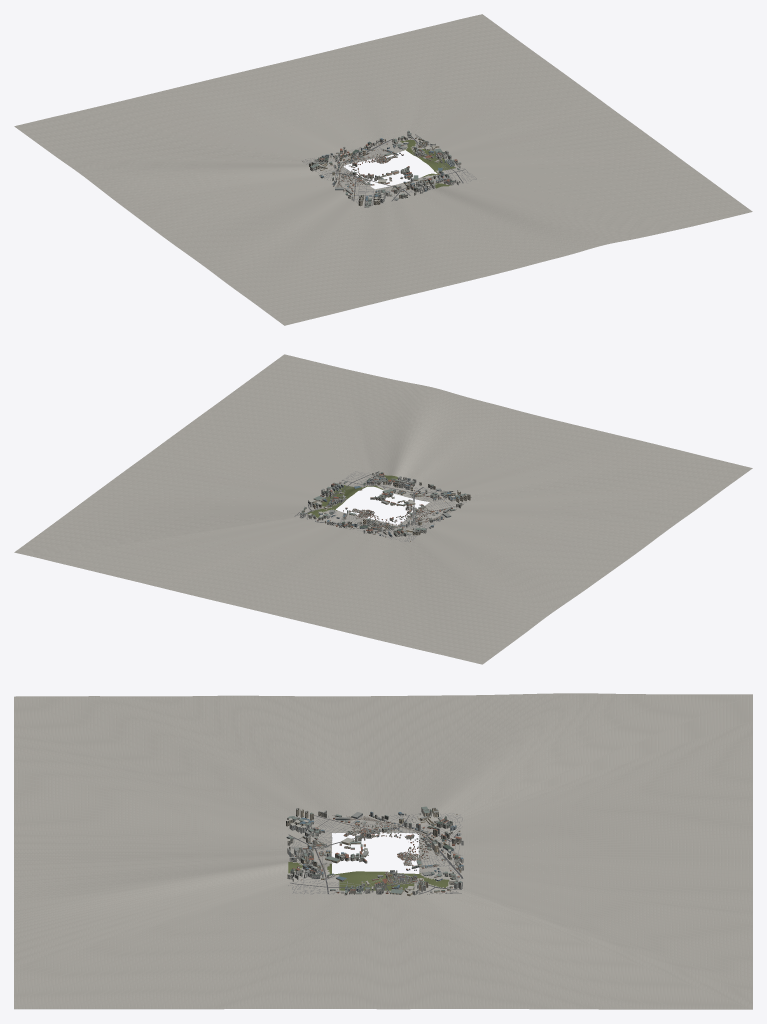
3 renders of one model, top to bottom at view 1: azimuth 30°, elevation 25°; view 2: azimuth 150°, elevation 25°; view 3: azimuth 270°, elevation 25°, orthographic. The views are drawn at different scales.
Visible parts, largest first — view 1: ctx-ground, ctx-buildings, ctx-streets; view 2: ctx-ground, ctx-buildings, ctx-streets; view 3: ctx-ground, ctx-buildings, ctx-streets, ctx-roads.
Part boxes in pixels (<box>): ctx-ground: <box>14,14,752,325</box>; ctx-buildings: <box>309,130,461,207</box>; ctx-streets: <box>301,139,476,203</box>; ctx-ground: <box>14,354,752,664</box>; ctx-buildings: <box>300,471,470,537</box>; ctx-streets: <box>307,471,466,542</box>; ctx-ground: <box>14,693,752,1009</box>; ctx-buildings: <box>286,806,463,896</box>; ctx-streets: <box>288,813,462,894</box>; ctx-roads: <box>288,815,463,894</box>.
Bounding box in the file's own units: 7600 × 102 × 7600.
Materials: 20 (17 with a texture image).
